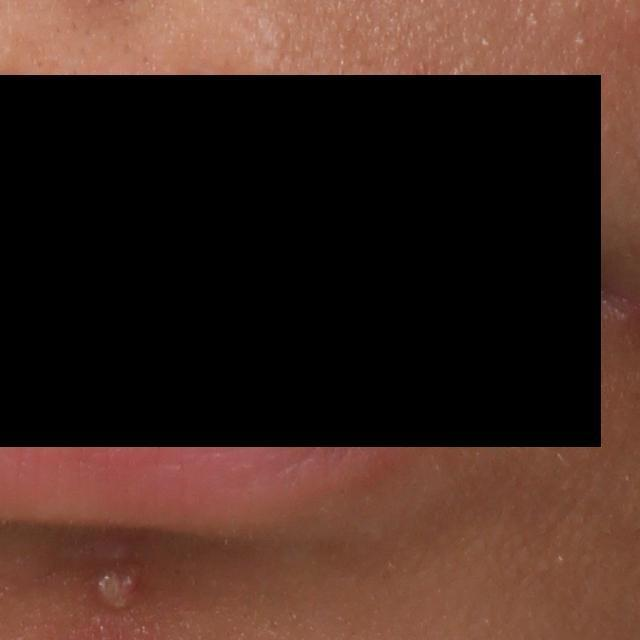pustule: (77, 560, 142, 618)
